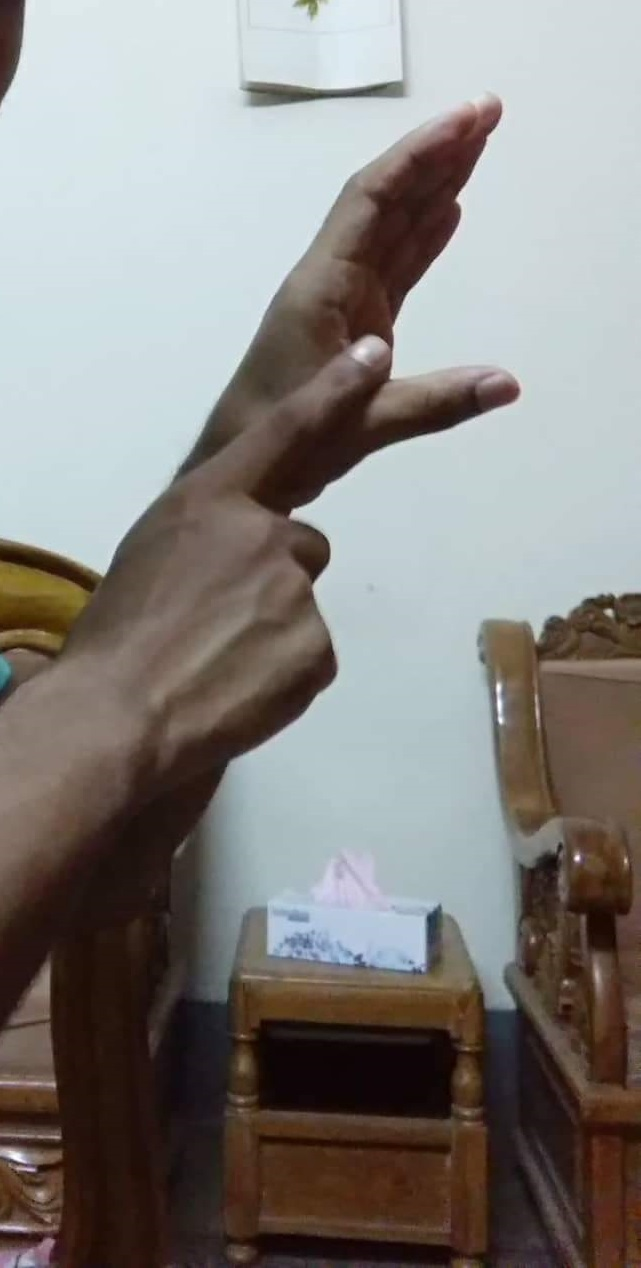dh: (198, 99, 508, 697)
